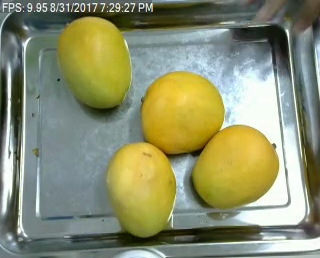Mango: (192, 123, 280, 206), (57, 14, 133, 107), (102, 142, 175, 238), (140, 71, 223, 153)
